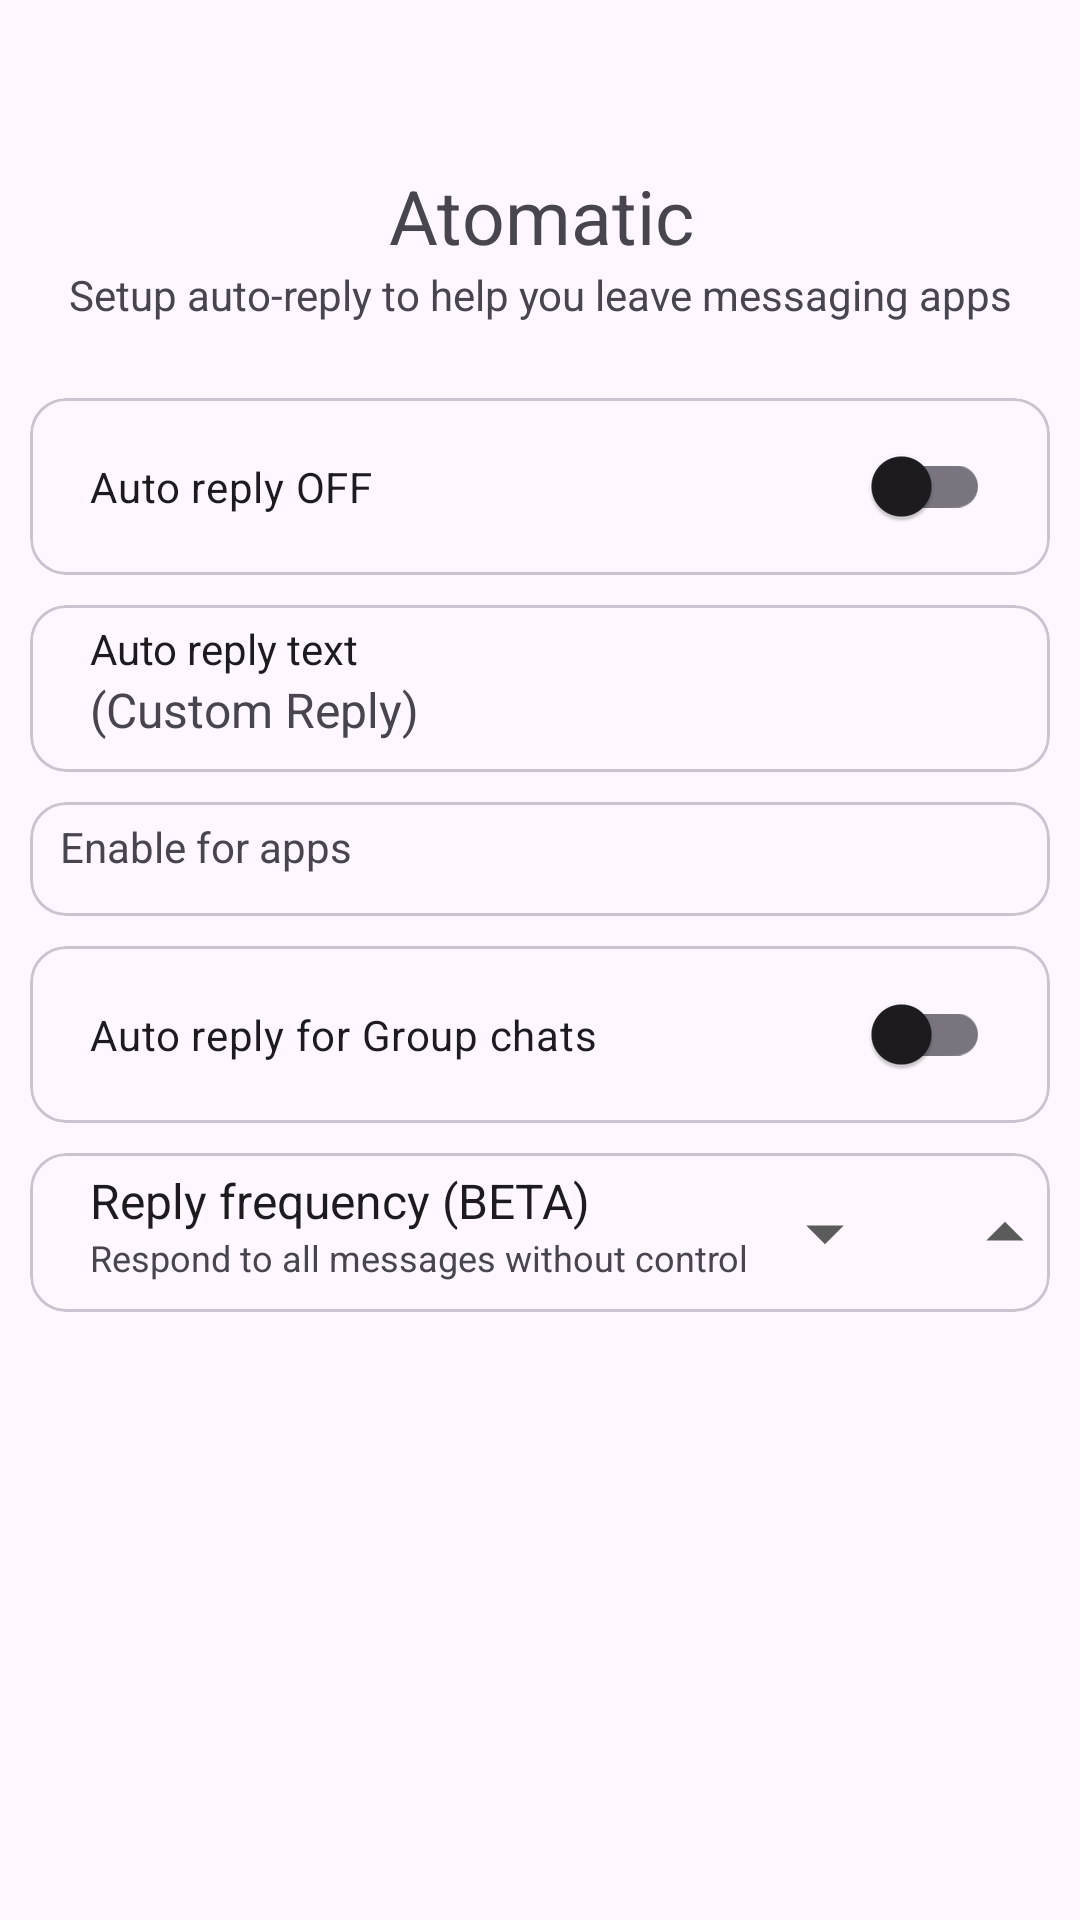

Icon bounding boxes for this 1080 x 1920 phone screenshot, format (x1, y1, x2, y2):
Decrease frequency: (806, 1225, 844, 1244)
Increase frequency: (986, 1222, 1024, 1241)
